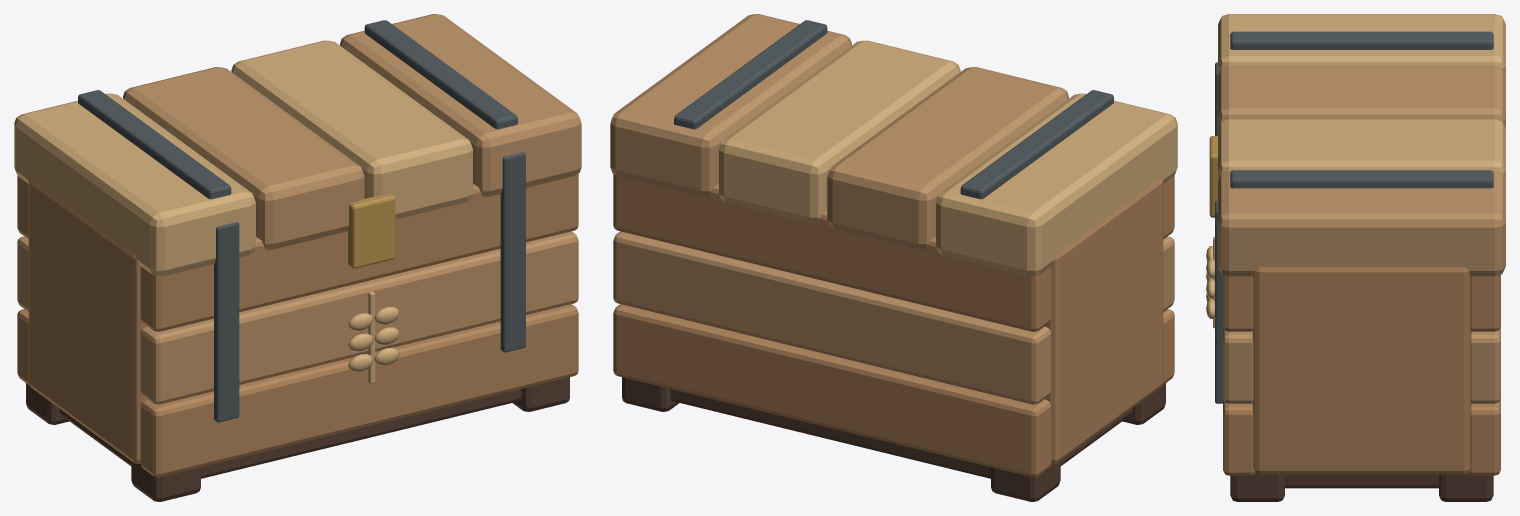
File: grain_chest.glb
3 views of the same model, side by side, from view 1: azimuth 30°, elevation 25°; view 2: azimuth 150°, elevation 25°; view 3: azimuth 270°, elevation 25° (orthographic).
Parts seen in each view (by area): view 1: grain_chest; view 2: grain_chest; view 3: grain_chest.
Part boxes in pixels (x1,y1,x2,y2): grain_chest: (14, 14, 581, 501); grain_chest: (610, 14, 1177, 501); grain_chest: (1206, 14, 1505, 501).
Bounding box in the file's own units: 1 × 0.664 × 0.604.
